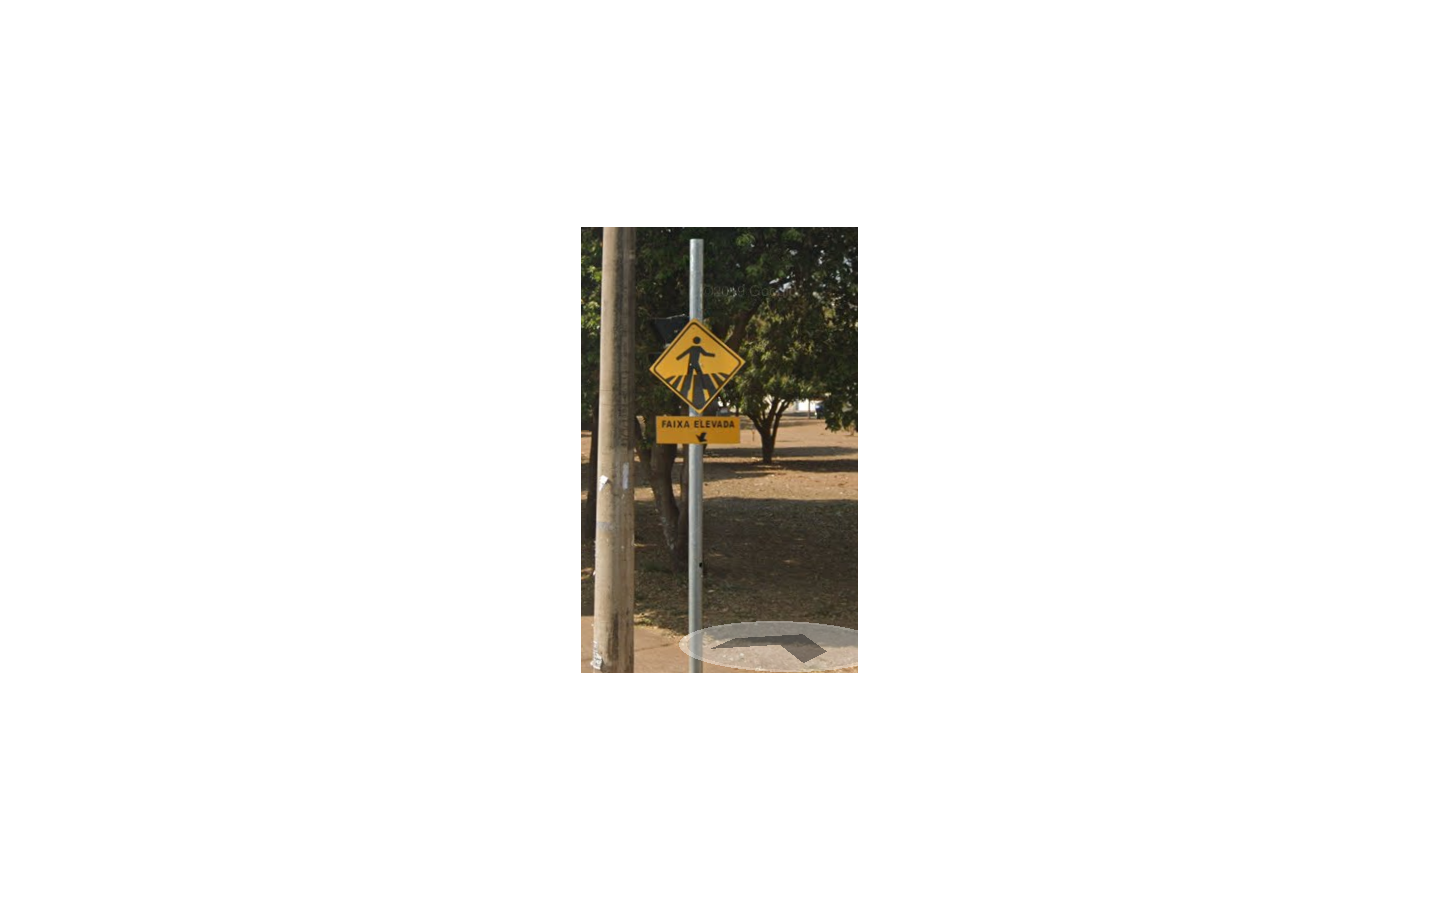telev: (652, 319, 744, 445)
